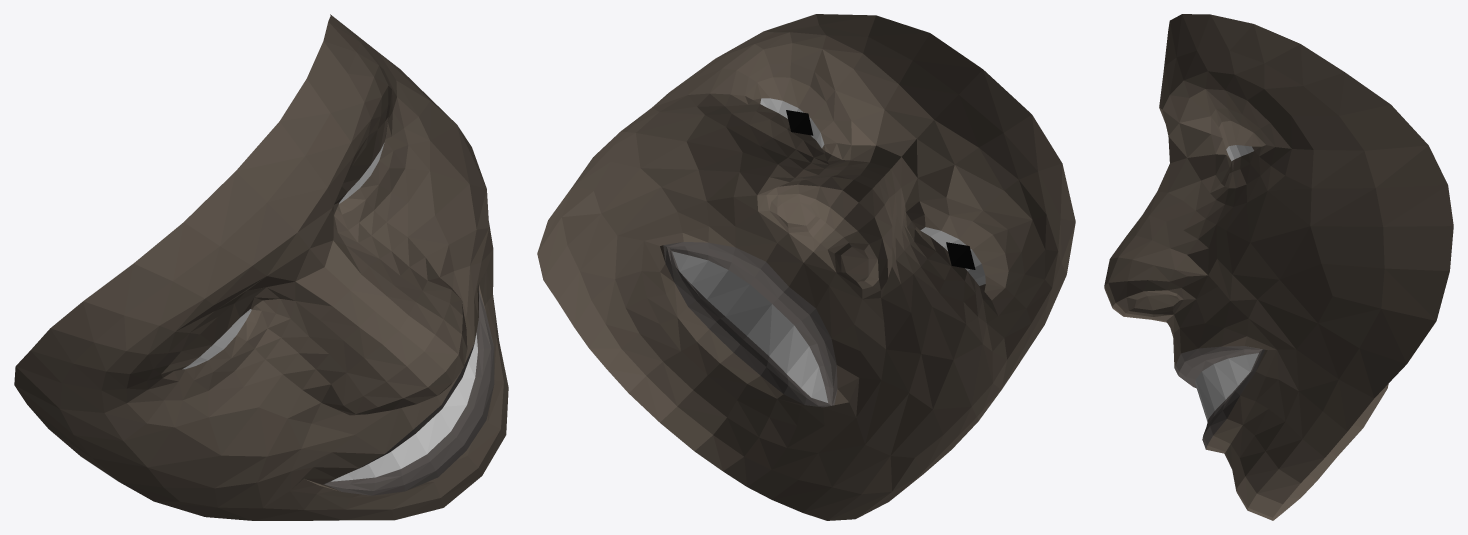
The model's file is IMG_3704.obj.
3 views of the same model, side by side, from view 1: azimuth 30°, elevation 25°; view 2: azimuth 150°, elevation 25°; view 3: azimuth 270°, elevation 25° (orthographic). The views are drawn at different scales.
Parts seen in each view (by area): view 1: face_model_with_iris; view 2: face_model_with_iris; view 3: face_model_with_iris.
Part boxes in pixels (x1=…): face_model_with_iris: x1=14, y1=14, x2=508, y2=520; face_model_with_iris: x1=537, y1=14, x2=1075, y2=520; face_model_with_iris: x1=1104, y1=14, x2=1453, y2=520.
Bounding box in the file's own units: 0.9891 × 0.9867 × 0.691.
